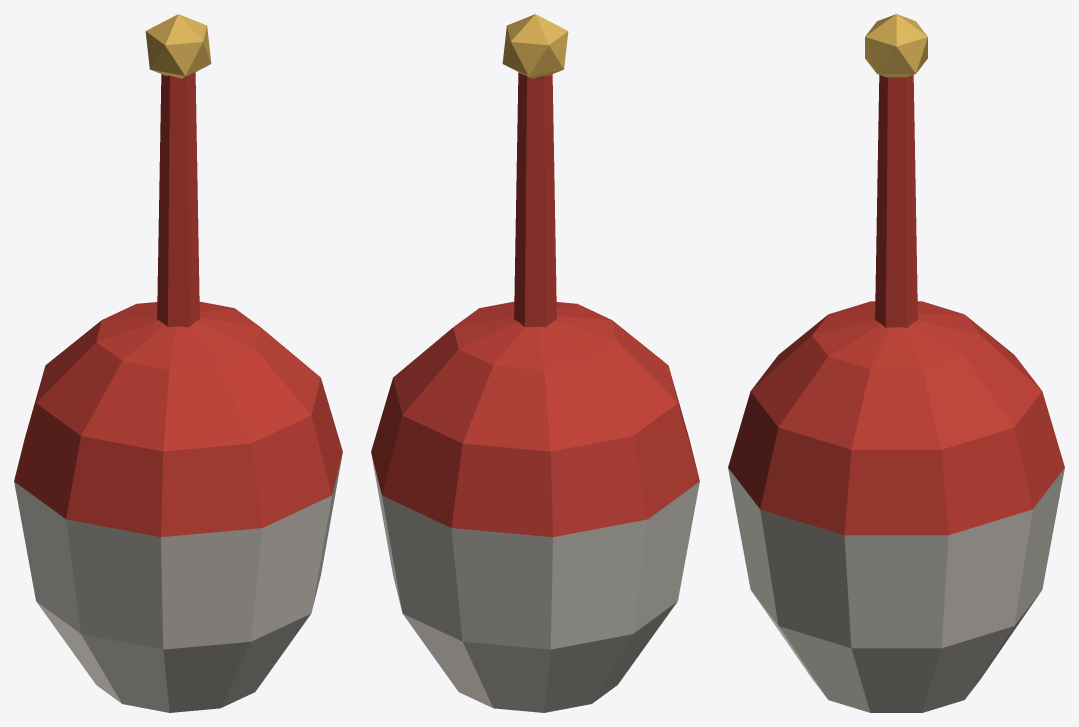
Rendered from bobber.glb.
3 renders of one model, left to right at view 1: azimuth 30°, elevation 25°; view 2: azimuth 150°, elevation 25°; view 3: azimuth 270°, elevation 25°, orthographic.
Visible parts, largest first — view 1: bobber; view 2: bobber; view 3: bobber.
Boxes of the visible parts, x1,y1,x2,y2 form: bobber: (14,14,342,712); bobber: (371,14,699,712); bobber: (728,14,1064,712).
Bounding box in the file's own units: 0.1902 × 0.457 × 0.2.
